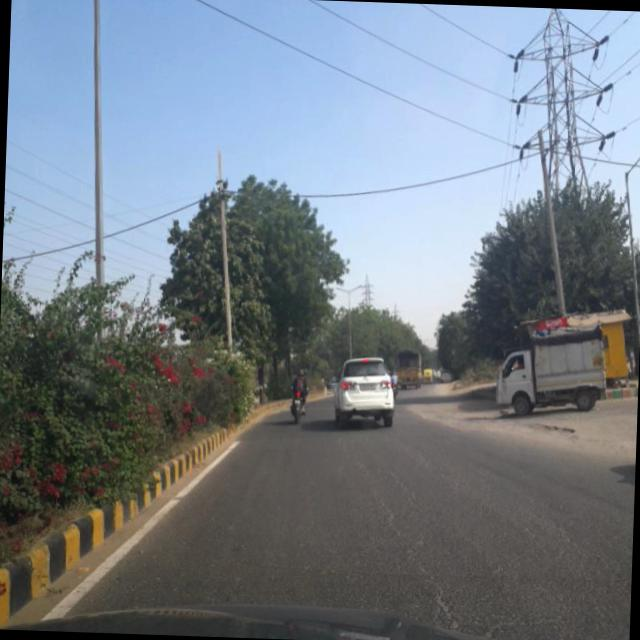crack: (346, 438, 630, 640)
pothole: (378, 496, 458, 612)
